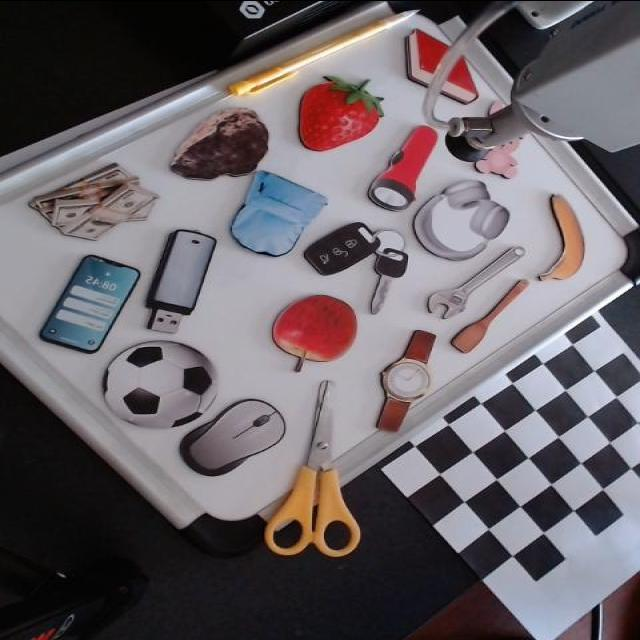Other Objects: (264, 380, 361, 557), (295, 206, 442, 316), (29, 158, 168, 253), (168, 391, 298, 487), (396, 174, 525, 270), (167, 97, 289, 197), (209, 167, 330, 264), (98, 338, 221, 431), (40, 252, 144, 357), (362, 123, 461, 216), (138, 227, 220, 334), (427, 246, 528, 319), (271, 294, 359, 371), (376, 329, 437, 434), (451, 279, 531, 354), (537, 194, 594, 285), (475, 100, 529, 179)
